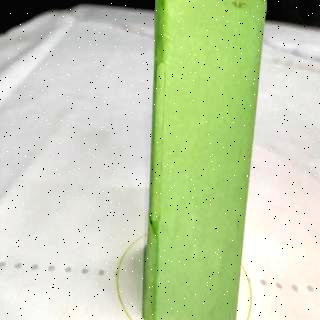greenbox: (144, 1, 267, 320)
